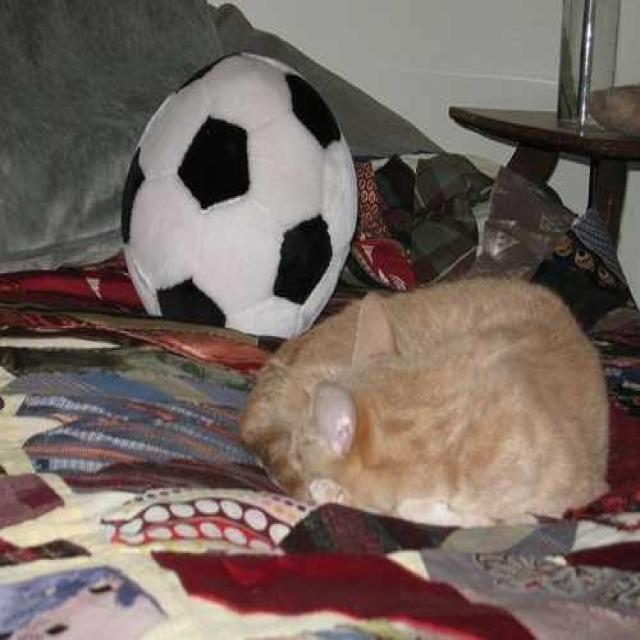ball: (120, 52, 363, 338)
